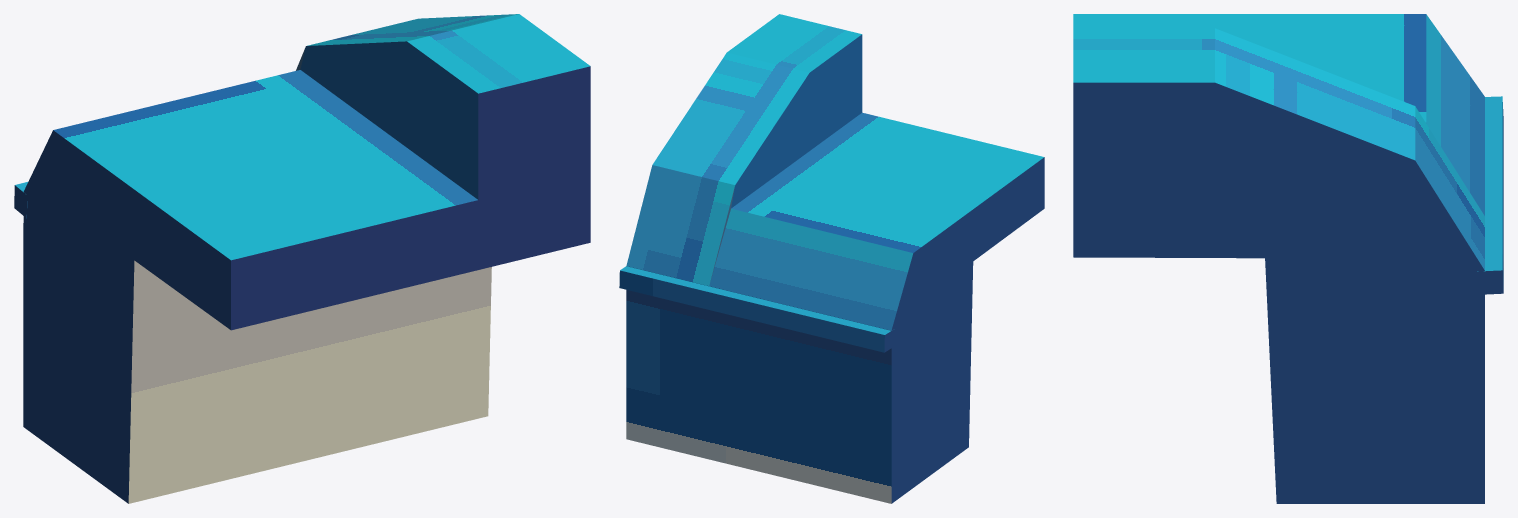
Rendered from df5_carport_4_lh.obj.
3 views of the same model, side by side, from view 1: azimuth 30°, elevation 25°; view 2: azimuth 150°, elevation 25°; view 3: azimuth 270°, elevation 25° (orthographic). The views are drawn at different scales.
Visible parts, largest first — view 1: cube_selection; view 2: cube_selection; view 3: cube_selection.
Part boxes in pixels (box(x1,y1,x2,y2)): cube_selection: box(14, 14, 590, 503); cube_selection: box(619, 14, 1044, 503); cube_selection: box(1073, 14, 1503, 503).
Bounding box in the file's own units: 1 × 1.13 × 1.05.
